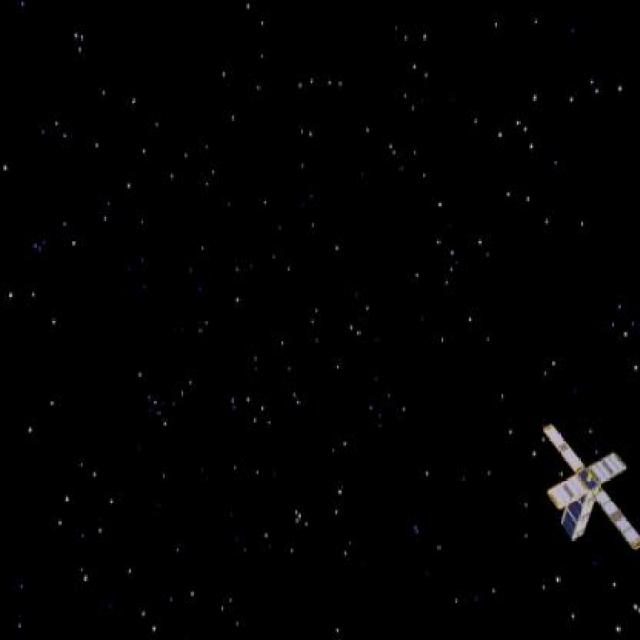medium_debris: (532, 419, 640, 563)
